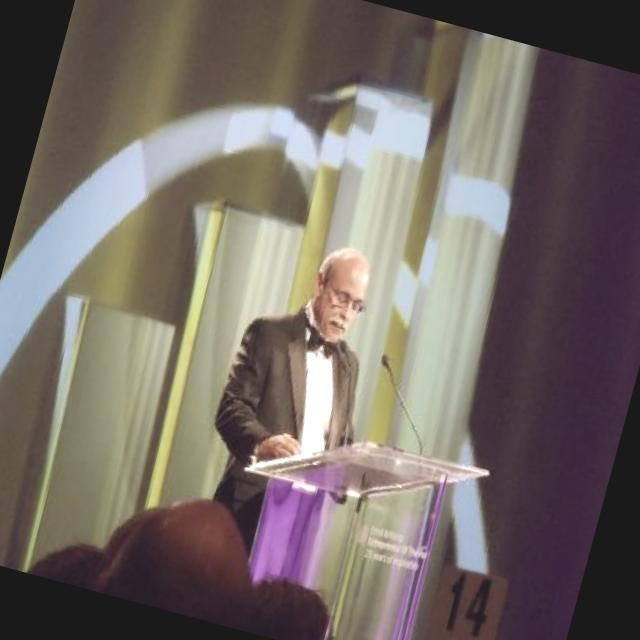Person: (0, 464, 566, 640), (176, 221, 414, 581)
